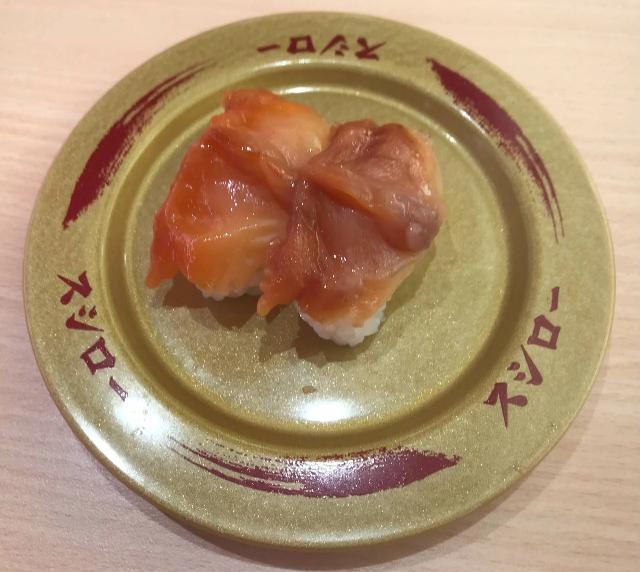jangold: (84, 22, 580, 520)
